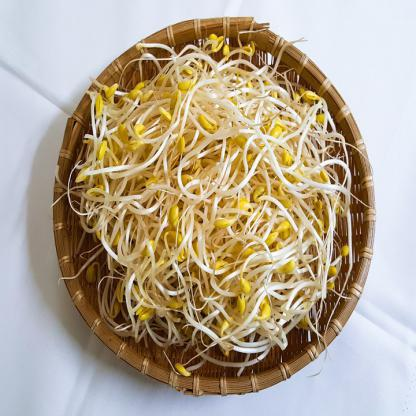bean sprouts: (118, 87, 340, 348)
